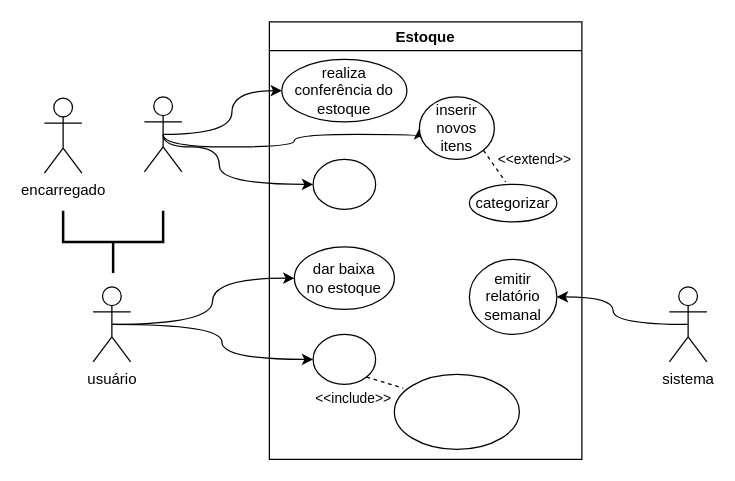
Image size: 735x481. Some labels were removed from this diagram. The centre of each missing label's shape, as x and y in pixels:
fazer login: pixel 344 358
fiscal: pixel 162 134
validar baixa: pixel 344 183
verifica se já está logado em outra estação: pixel 456 411
